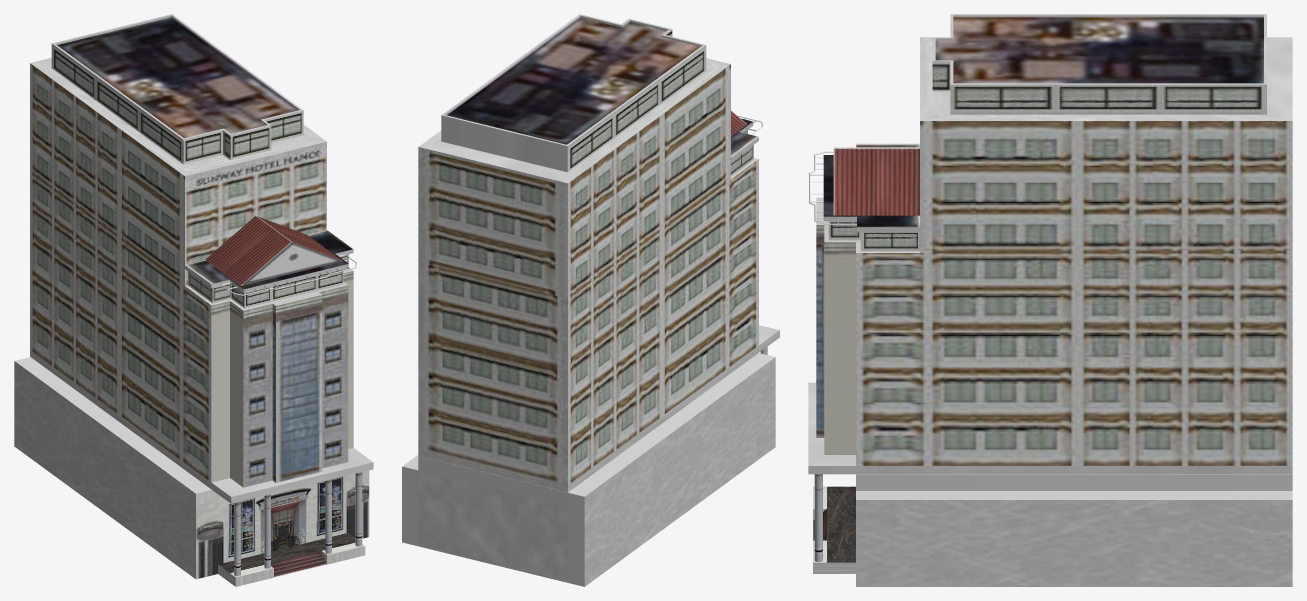
3 views of the same model, side by side, from view 1: azimuth 30°, elevation 25°; view 2: azimuth 150°, elevation 25°; view 3: azimuth 270°, elevation 25° (orthographic). The views are drawn at different scales.
Parts seen in each view (by area): view 1: SunwayHotel; view 2: SunwayHotel; view 3: SunwayHotel.
Boxes of the visible parts, box(x1,y1,x2,y2) form: SunwayHotel: box(14, 14, 373, 586); SunwayHotel: box(402, 14, 779, 586); SunwayHotel: box(808, 14, 1292, 586).
Size of the model in its own units: 20 by 44.58 by 40.19.
1 material, 1 textured.
